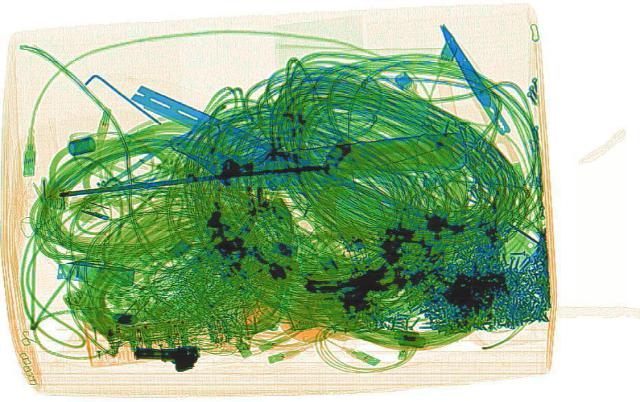Gun: (132, 342, 200, 369)
